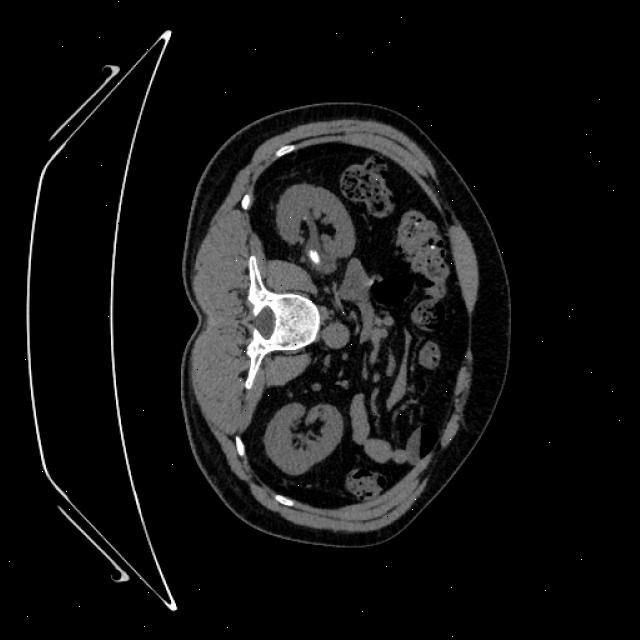kidneystone: (308, 250, 318, 264)
